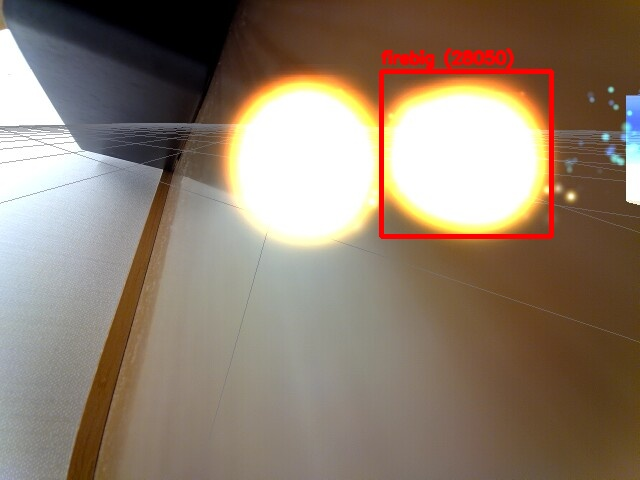firebig: (381, 71, 551, 236)
